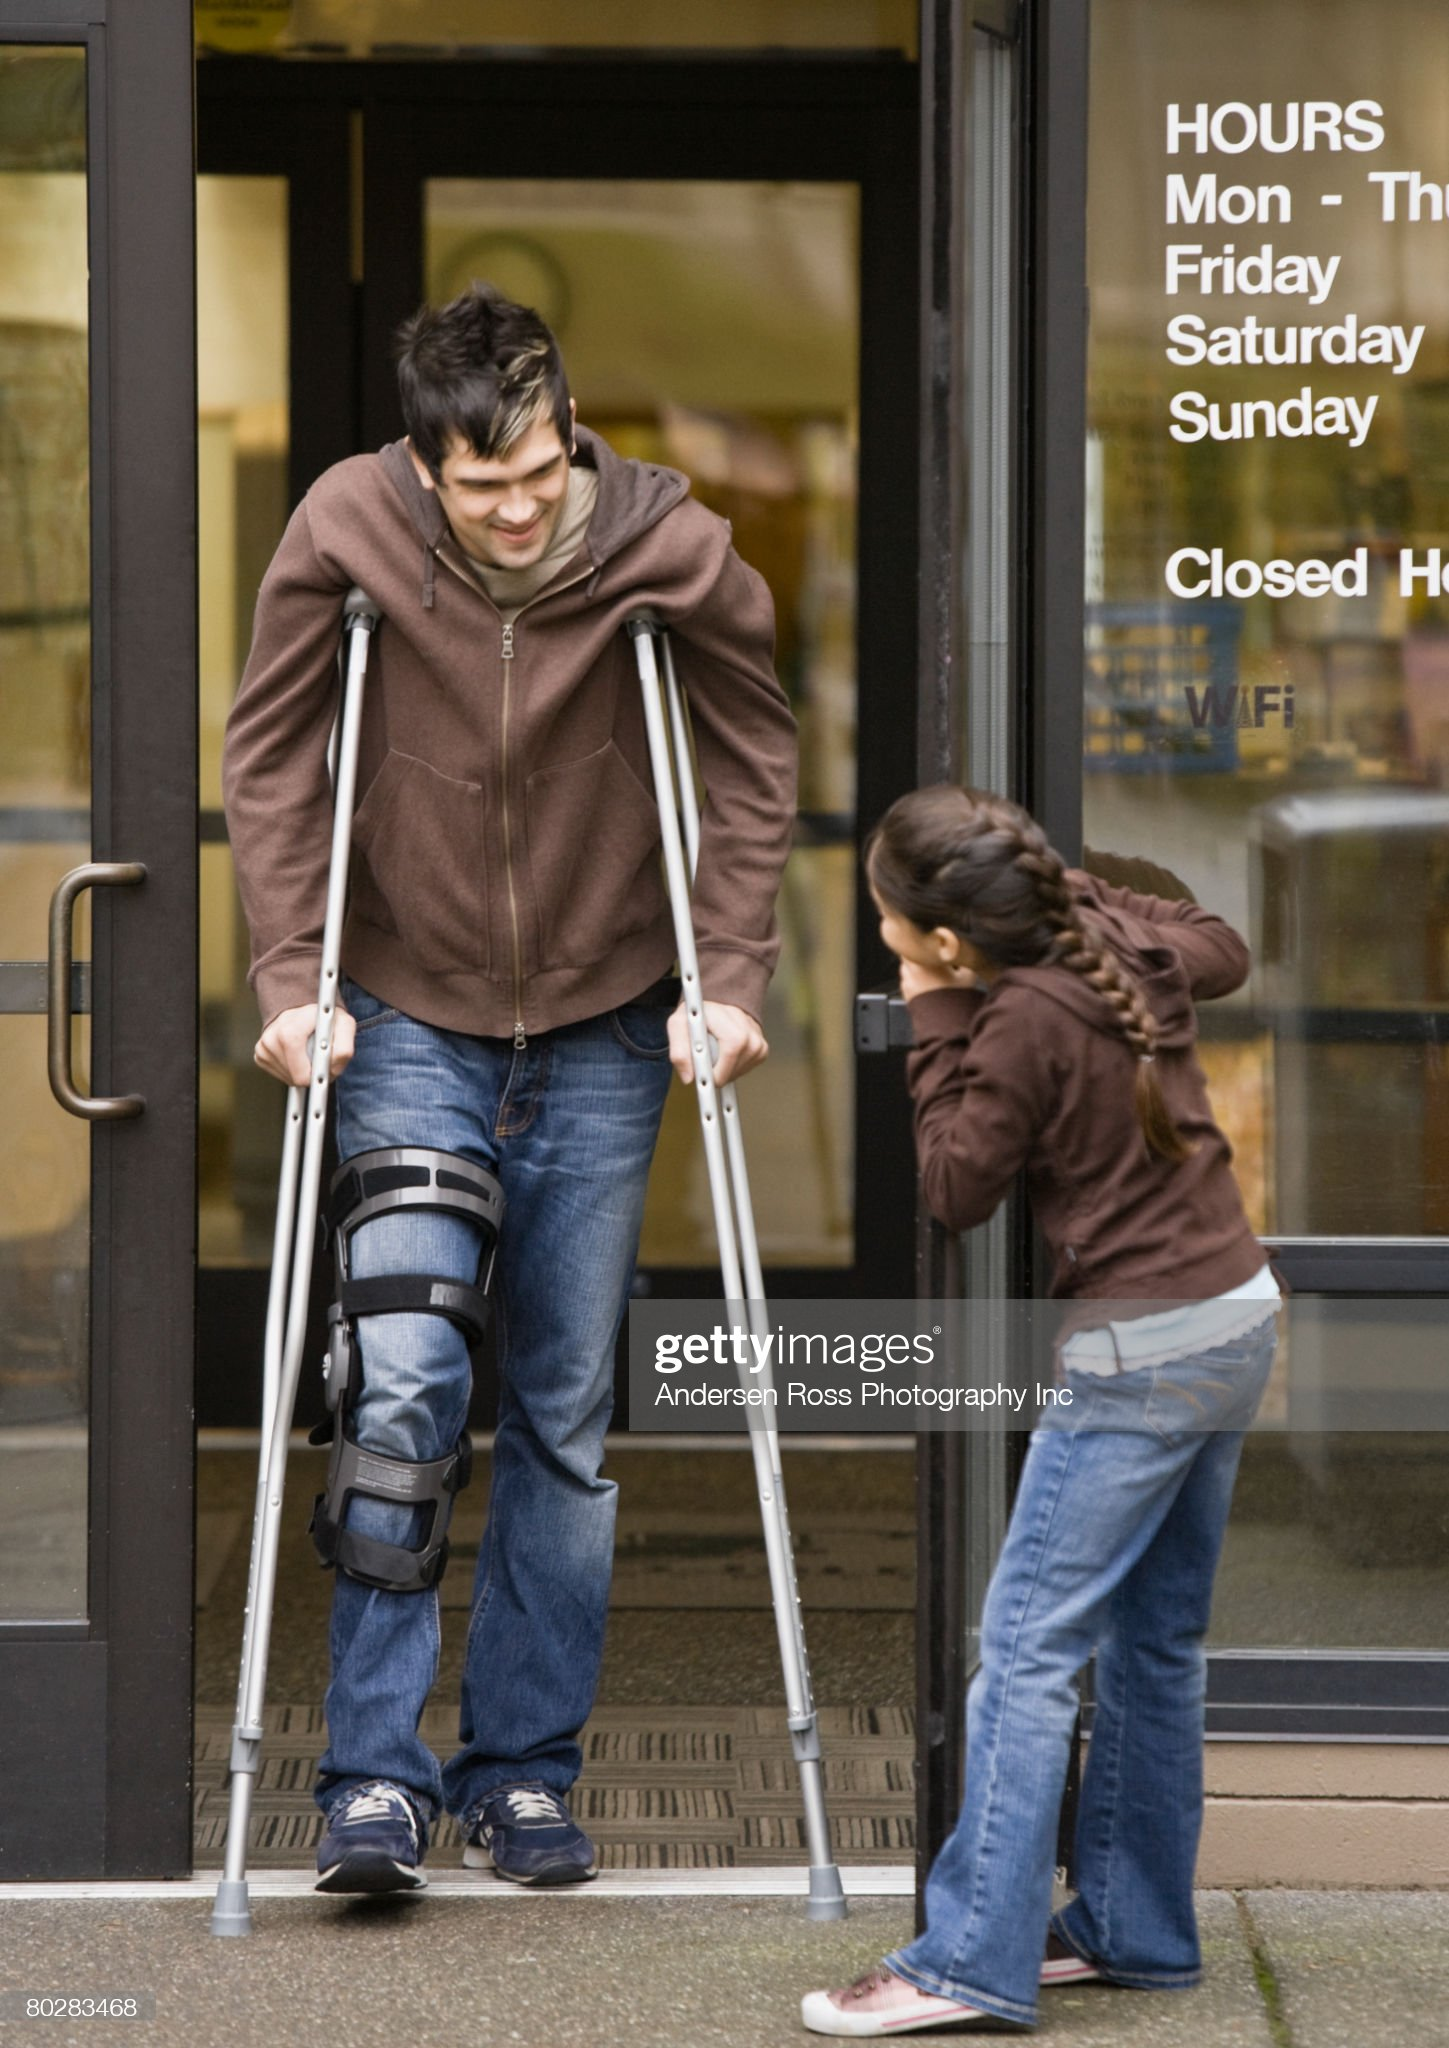crutches: (193, 296, 858, 1948)
